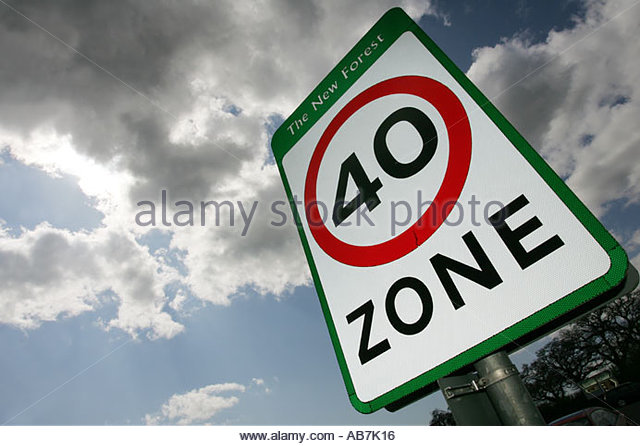Speed_limit_40km: (299, 75, 472, 267)
